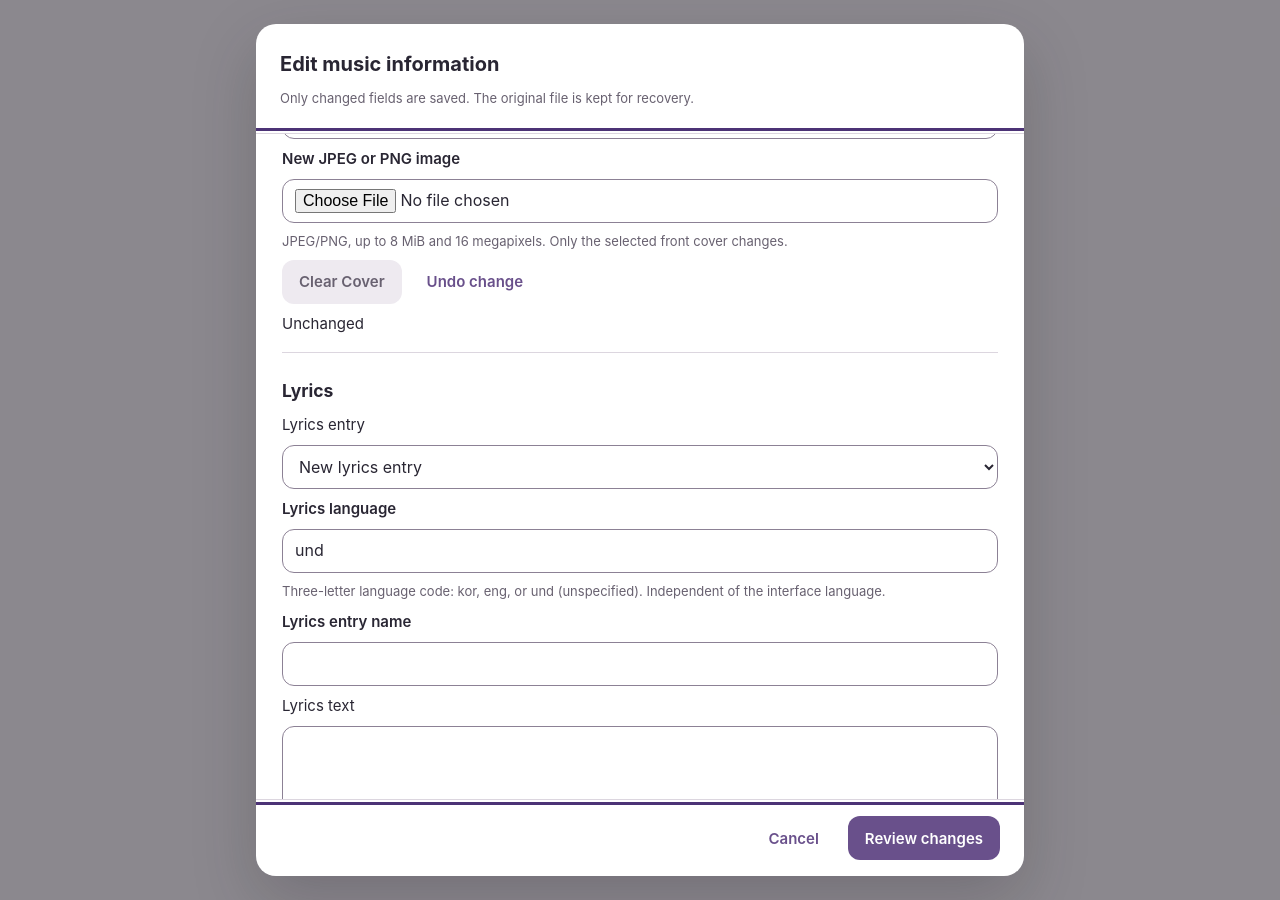
it: should clear only the selected existing lyrics entry
(page scrolled)
Select "kor · Translation" in the dropdown labelled "Lyrics entry": (640, 467) [282,445,998,489]
(page scrolled)
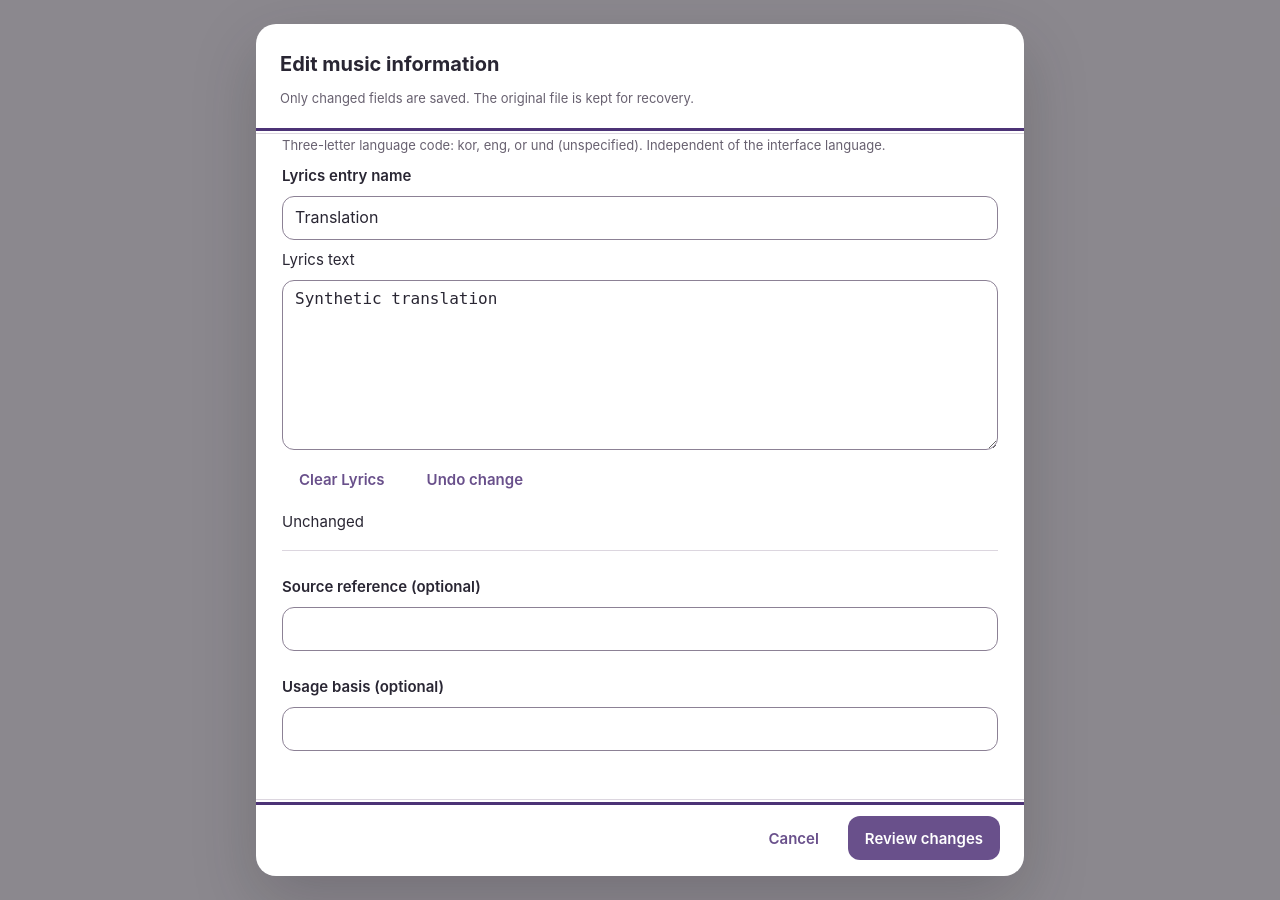
Click the button "Clear Lyrics": (342, 480) [282,458,402,502]
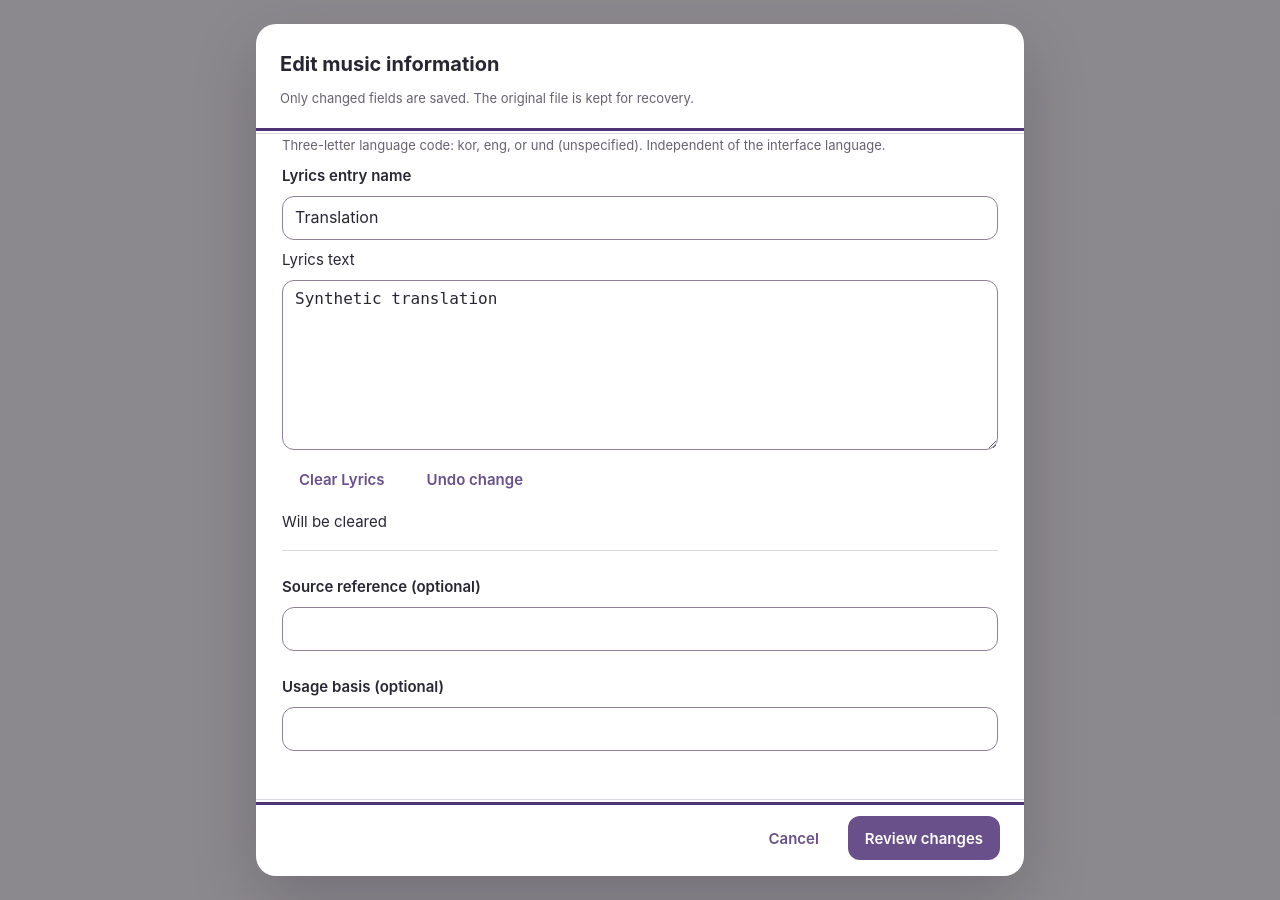
Click the button "Review changes": (924, 838) [848,816,1000,860]
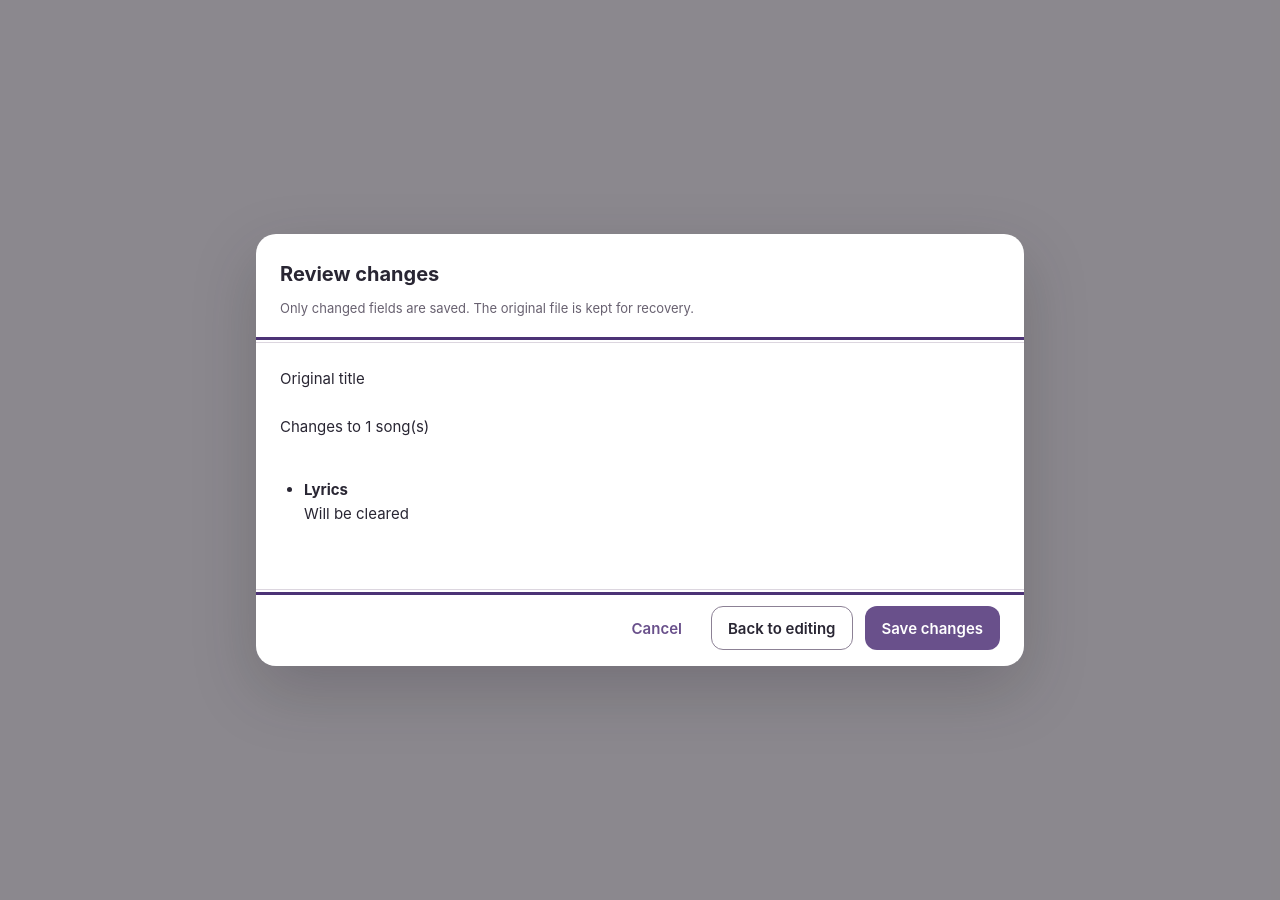
Check: the button "Save changes" is shown, box [864,606,1000,650]
